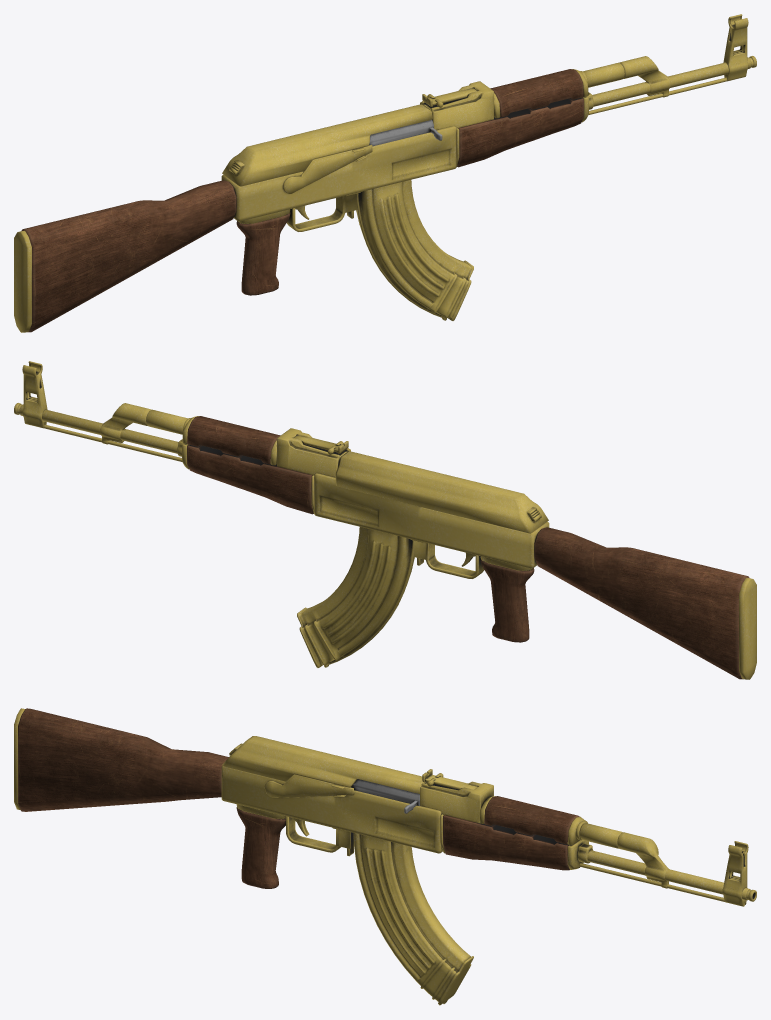
File: gold_ak47.glb
3 views of the same model, one above another, from view 1: azimuth 30°, elevation 25°; view 2: azimuth 150°, elevation 25°; view 3: azimuth 330°, elevation 25° (orthographic).
Parts seen in each view (by area): view 1: Butt_low, Magazine_low, Box_low, Top_low, StockWoodBottom_low, Handle_low, StockWoodTop_low, MidSightHolder_low, ButtCover_low, Barrel_low, SelectFire_low, IronSights_low (+5 smaller); view 2: Butt_low, Magazine_low, Box_low, Top_low, StockWoodBottom_low, Handle_low, StockWoodTop_low, MidSightHolder_low, ButtCover_low, Barrel_low, IronSights_low, BarrelSupport_low (+3 smaller); view 3: Butt_low, Magazine_low, Box_low, Top_low, StockWoodBottom_low, Handle_low, StockWoodTop_low, MidSightHolder_low, Barrel_low, SelectFire_low, IronSights_low, BarrelSupport_low (+4 smaller).
Boxes of the visible parts, left/top/right/bottom form: Butt_low: left=21, top=180, right=236, bottom=332; Magazine_low: left=356, top=180, right=473, bottom=320; Box_low: left=221, top=126, right=456, bottom=221; Top_low: left=222, top=104, right=433, bottom=186; StockWoodBottom_low: left=457, top=98, right=583, bottom=167; Handle_low: left=236, top=211, right=290, bottom=295; StockWoodTop_low: left=490, top=69, right=583, bottom=117; MidSightHolder_low: left=420, top=81, right=493, bottom=130; ButtCover_low: left=14, top=231, right=31, bottom=332; Barrel_low: left=592, top=56, right=756, bottom=106; SelectFire_low: left=283, top=144, right=372, bottom=193; IronSights_low: left=723, top=14, right=748, bottom=81; Butt_low: left=534, top=527, right=749, bottom=679; Magazine_low: left=297, top=527, right=414, bottom=667; Box_low: left=314, top=473, right=549, bottom=568; Top_low: left=335, top=451, right=548, bottom=533; StockWoodBottom_low: left=187, top=445, right=313, bottom=514; Handle_low: left=480, top=558, right=534, bottom=642; StockWoodTop_low: left=187, top=416, right=280, bottom=464; MidSightHolder_low: left=277, top=428, right=350, bottom=477; ButtCover_low: left=739, top=578, right=756, bottom=679; Barrel_low: left=14, top=403, right=178, bottom=453; IronSights_low: left=22, top=361, right=47, bottom=428; BarrelSupport_low: left=100, top=403, right=151, bottom=444; Butt_low: left=18, top=708, right=228, bottom=811; Magazine_low: left=353, top=833, right=473, bottom=1005; Box_low: left=221, top=765, right=442, bottom=853; Top_low: left=222, top=736, right=426, bottom=793; StockWoodBottom_low: left=443, top=815, right=569, bottom=870; Handle_low: left=236, top=807, right=285, bottom=888; StockWoodTop_low: left=484, top=796, right=579, bottom=844; MidSightHolder_low: left=420, top=781, right=493, bottom=823; Barrel_low: left=587, top=850, right=756, bottom=901; SelectFire_low: left=264, top=774, right=353, bottom=797; IronSights_low: left=722, top=841, right=748, bottom=906; BarrelSupport_low: left=617, top=832, right=669, bottom=888.
Bounding box in the file's own units: 1 × 0.3009 × 0.0656.
Materials: 1 (1 with a texture image).
